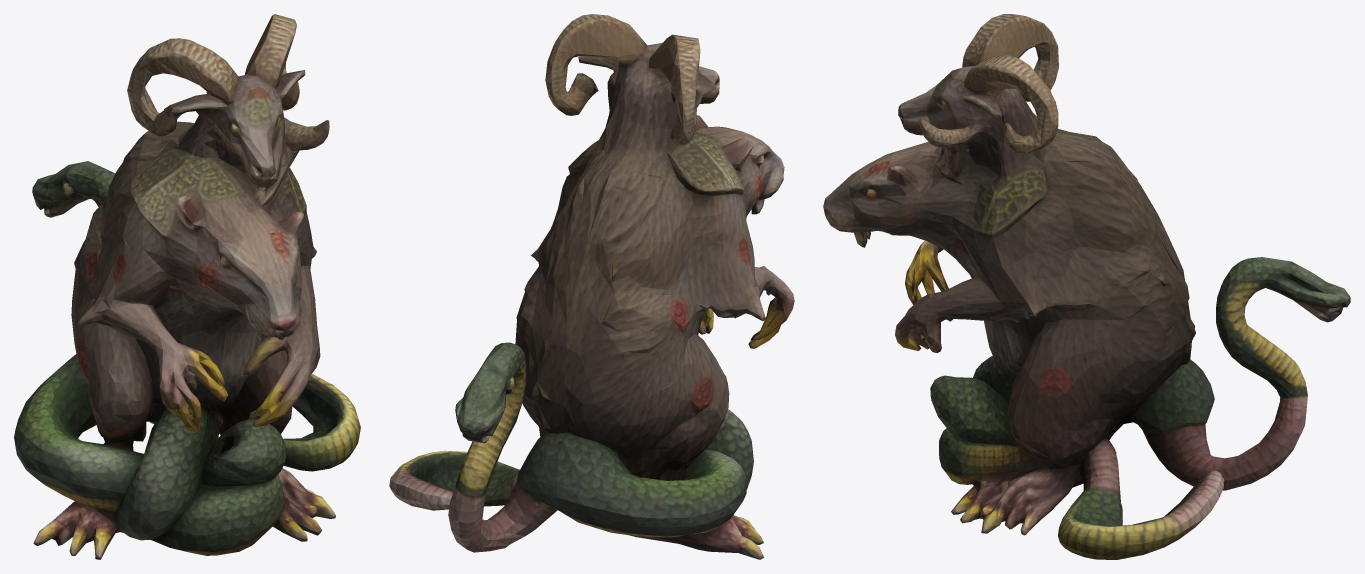
File: ratChimera.glb
3 renders of one model, left to right at view 1: azimuth 30°, elevation 25°; view 2: azimuth 150°, elevation 25°; view 3: azimuth 270°, elevation 25°, orthographic. The views are drawn at different scales.
Visible parts, largest first — view 1: world; view 2: world; view 3: world.
Boxes of the visible parts, x1=… form: world: x1=14, y1=14, x2=360, y2=559; world: x1=389, y1=14, x2=794, y2=559; world: x1=823, y1=14, x2=1350, y2=559.
Size of the model in its own units: 0.5769 by 0.7927 by 0.8246.
Materials: 1 (1 with a texture image).
